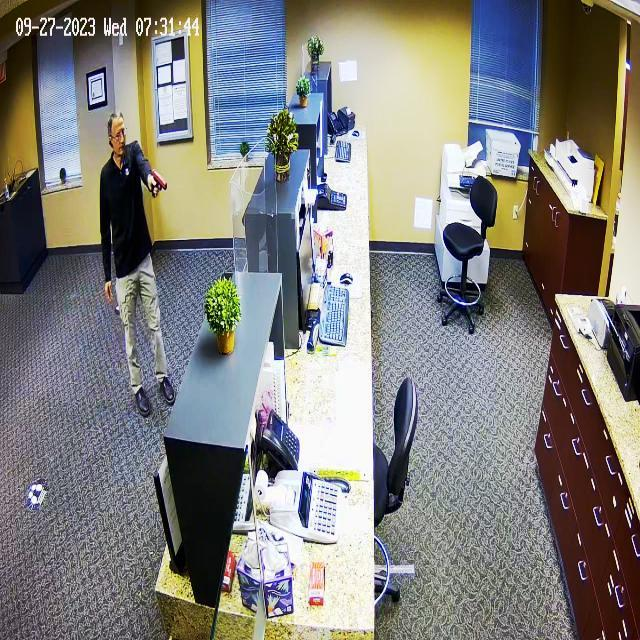Gun: (144, 168, 179, 200)
